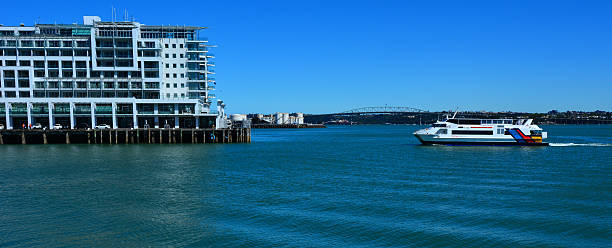ferry: (412, 110, 549, 145)
